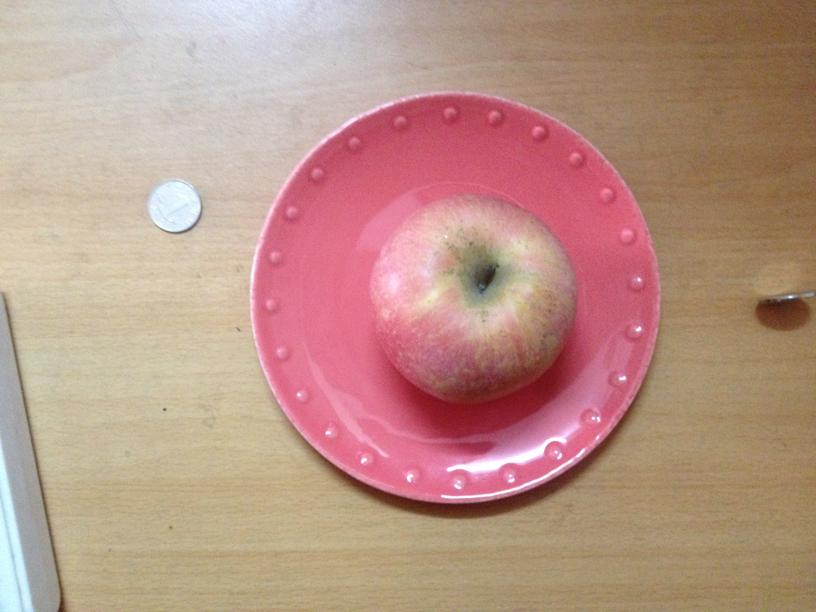apple: (367, 194, 577, 408)
coin: (146, 178, 201, 234)
